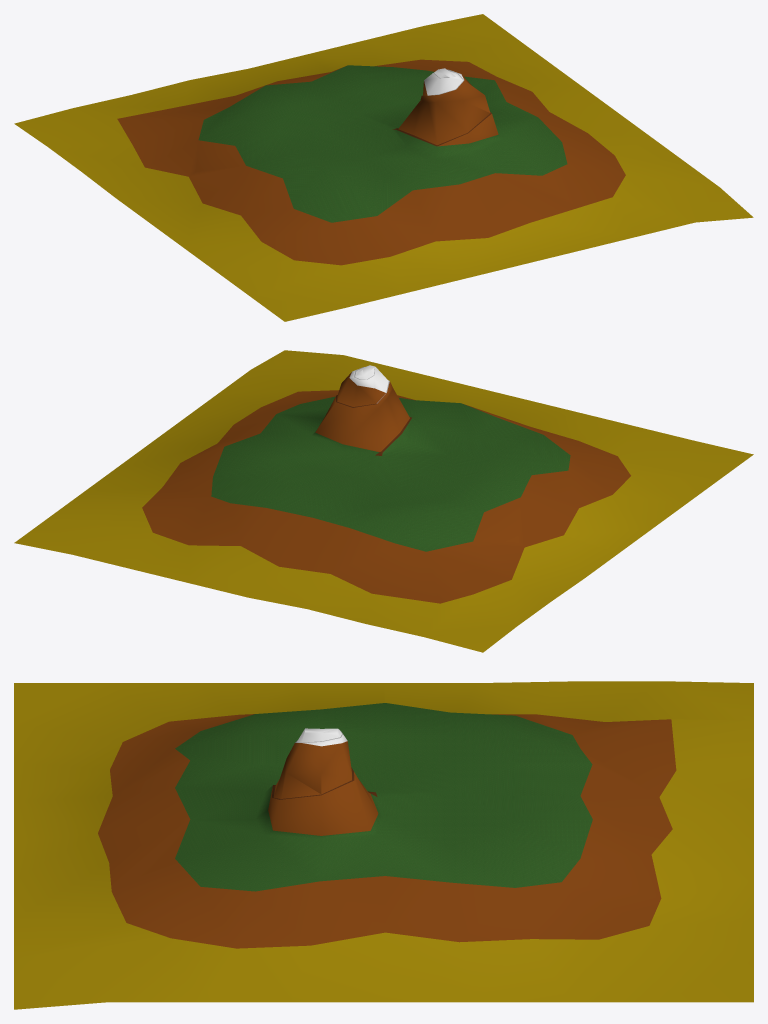
Rendered from island.glb.
The picture shows the model from 3 angles, top to bottom: view 1: azimuth 30°, elevation 25°; view 2: azimuth 150°, elevation 25°; view 3: azimuth 270°, elevation 25°; orthographic projection. The views are drawn at different scales.
Visible parts, largest first — view 1: Ground; view 2: Ground; view 3: Ground.
Part boxes in pixels (x1,y1,x2,y2): Ground: (14,14,753,321); Ground: (14,350,753,652); Ground: (14,681,753,1009).
Bounding box in the file's own units: 1138 × 254 × 1138.
7 materials, 1 textured.
